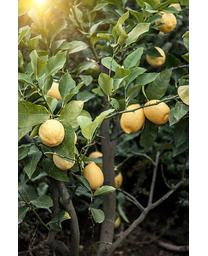lemon: (38, 119, 64, 148), (121, 105, 146, 134), (81, 161, 105, 191), (144, 99, 170, 123), (52, 149, 76, 169), (145, 46, 165, 66), (161, 12, 178, 31)
